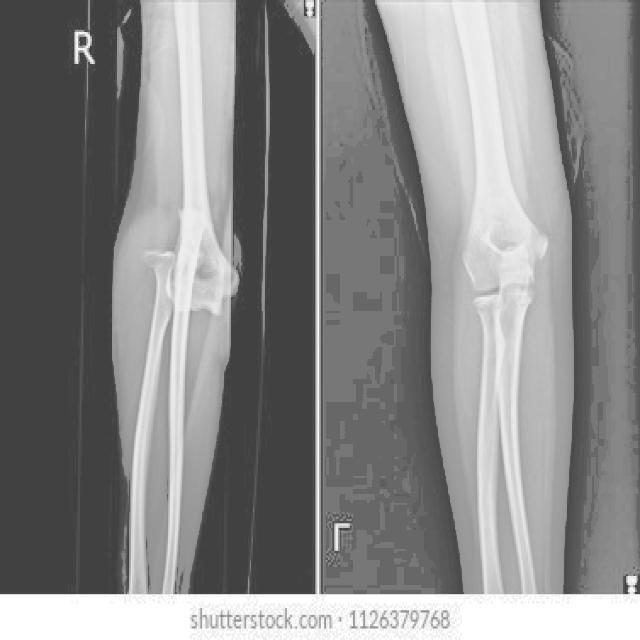Fracture Dislocation: (172, 198, 215, 228)
